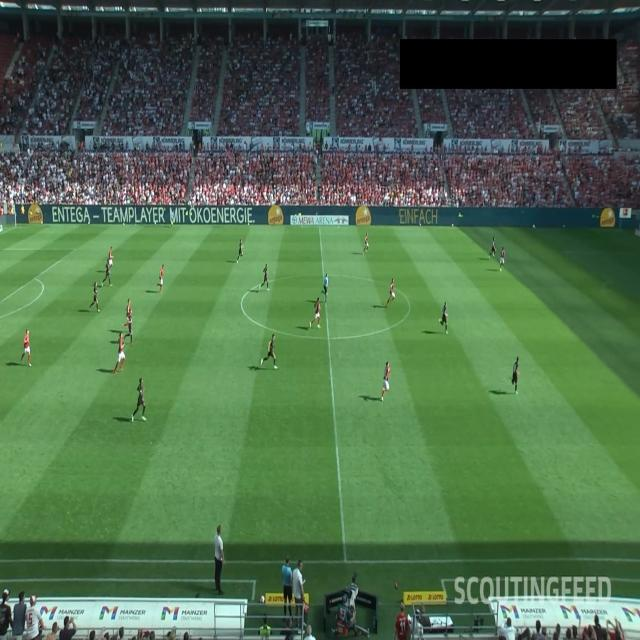ball: (532, 224, 535, 228)
